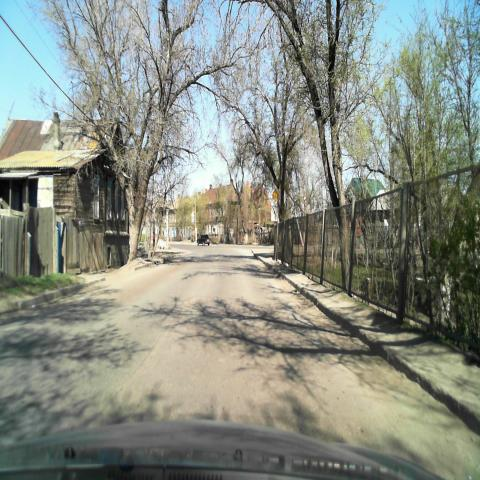8_13: (271, 206, 279, 222)
